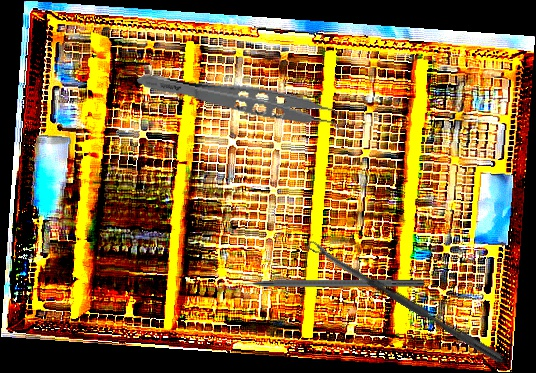Hook Surgical: (221, 278, 424, 288)
Surgical Spoon: (306, 238, 508, 366)
Tissue Forceps: (133, 68, 351, 138)
